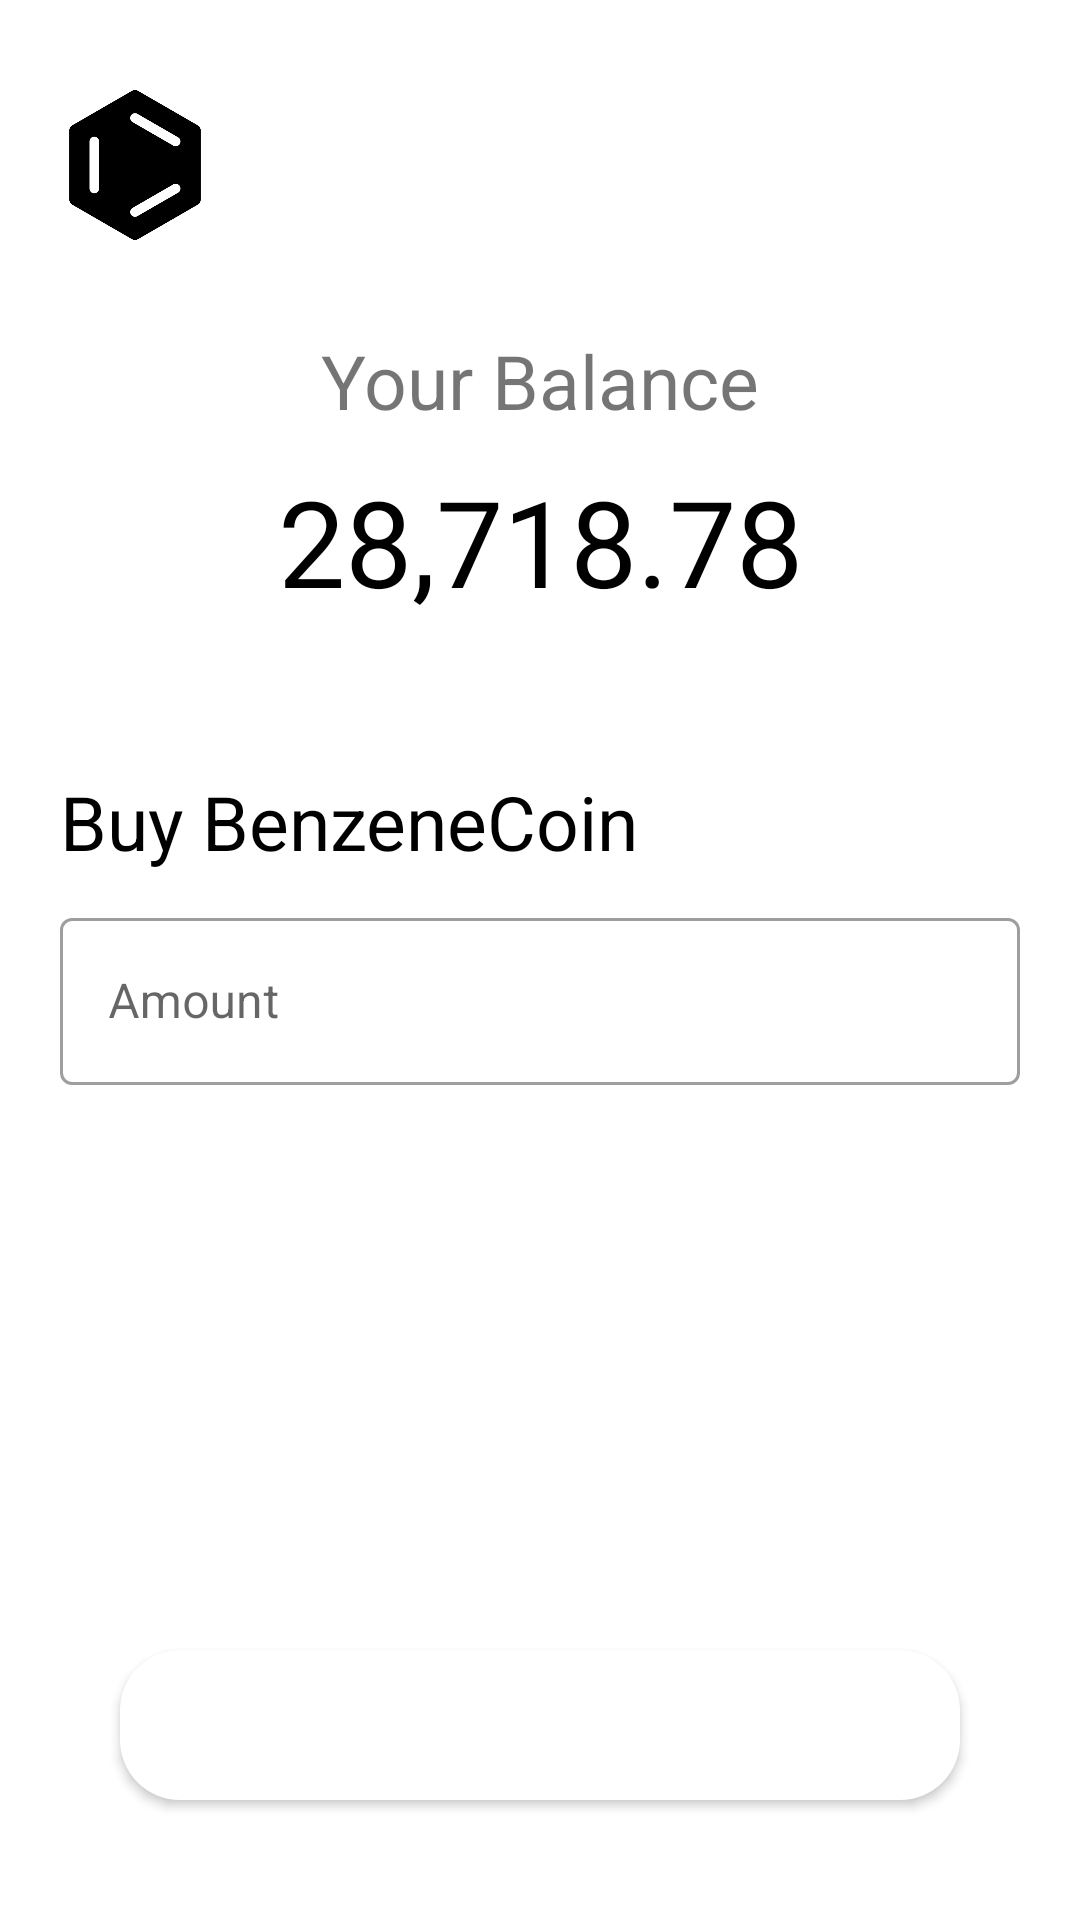

Named icons in this screenshot (1080 x 1920) and their centers, [x,y]:
benzene: [135,165]
